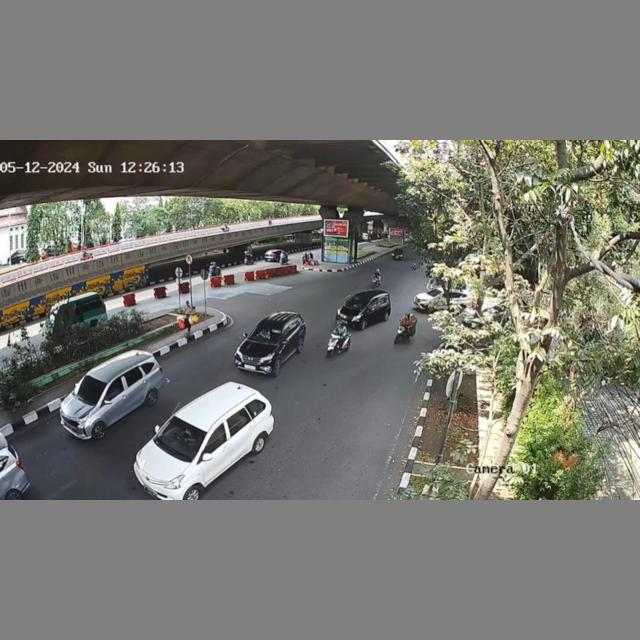windshield: (155, 414, 207, 458), (68, 375, 109, 402), (250, 325, 286, 345)
